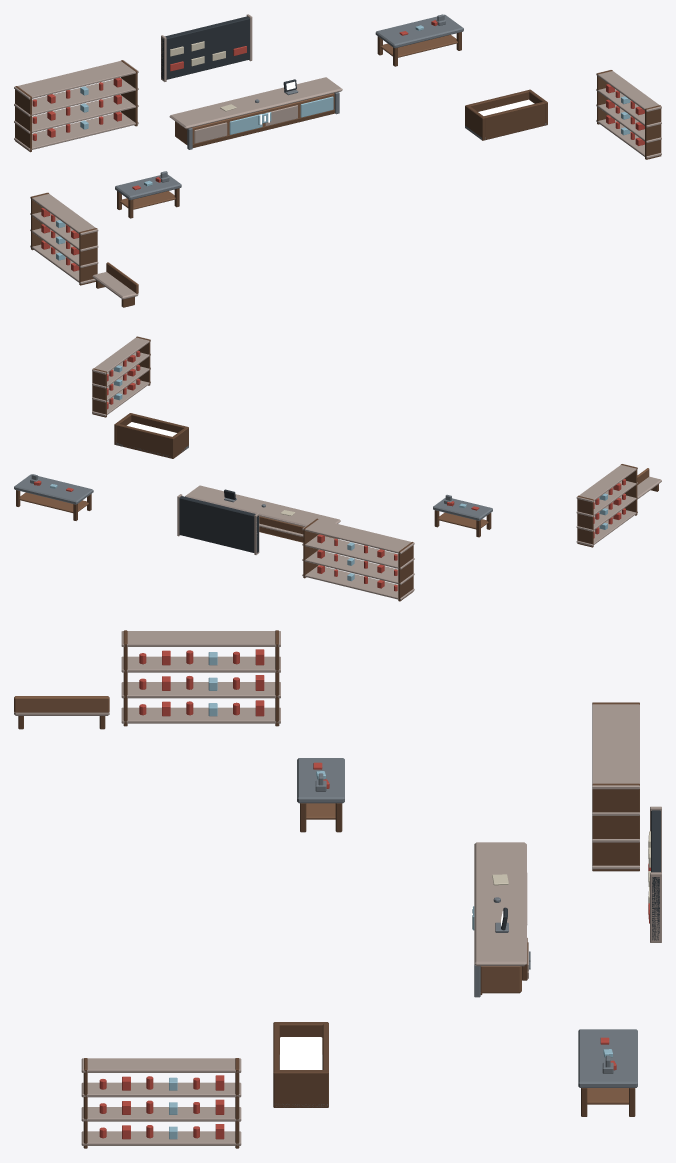
The model's file is ridgecooler_larder.glb.
The picture shows the model from 3 angles, top to bottom: view 1: azimuth 30°, elevation 25°; view 2: azimuth 150°, elevation 25°; view 3: azimuth 270°, elevation 25°; orthographic projection. The views are drawn at different scales.
Size of the model in its own units: 25.85 by 2.76 by 16.25.
